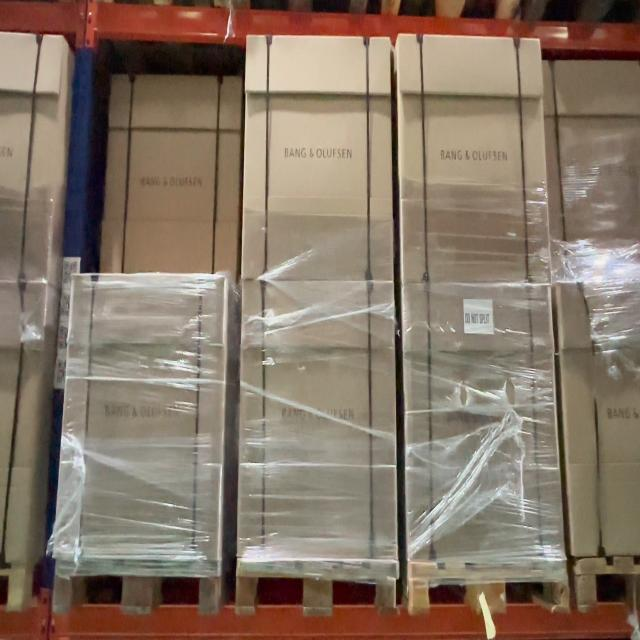box: (70, 281, 218, 550), (246, 287, 396, 551), (406, 292, 550, 562), (248, 40, 392, 281), (405, 39, 543, 281)
